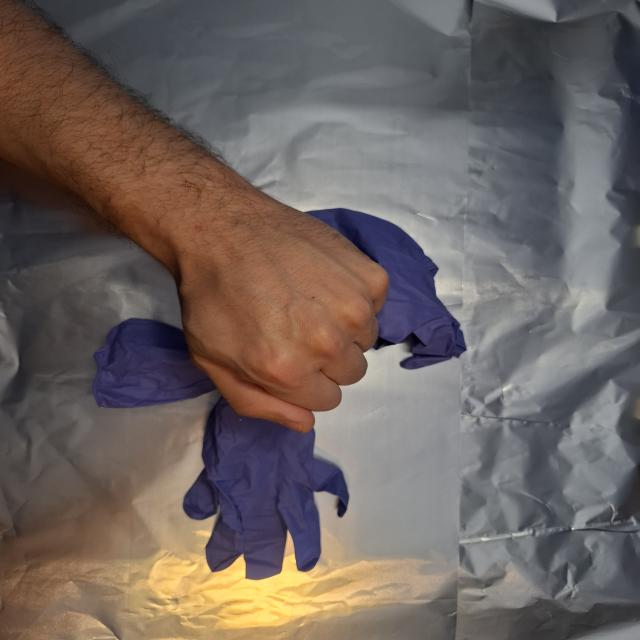glove_off: (165, 202, 392, 436)
